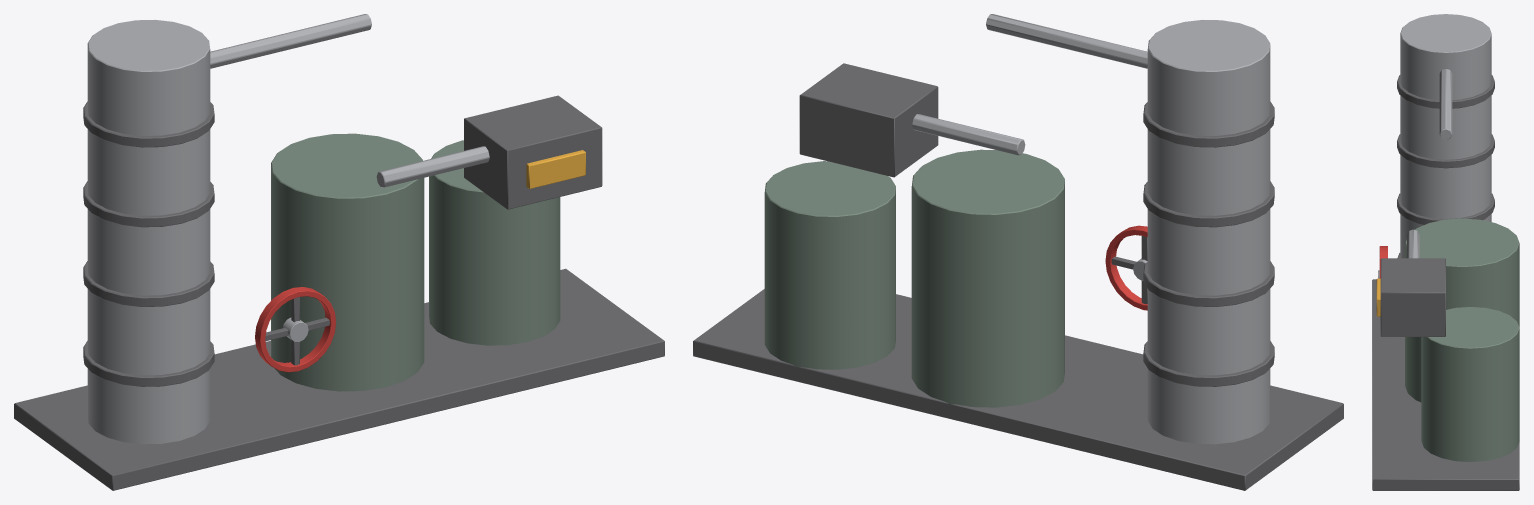
The model's file is feM_Refinery.fbx.
3 renders of one model, left to right at view 1: azimuth 30°, elevation 25°; view 2: azimuth 150°, elevation 25°; view 3: azimuth 270°, elevation 25°, orthographic. The views are drawn at different scales.
Visible parts, largest first — view 1: feM_Refinery_Base, FeSpin_PumpWheel; view 2: feM_Refinery_Base, FeSpin_PumpWheel; view 3: feM_Refinery_Base.
Boxes of the visible parts, x1,y1,x2,y2 form: feM_Refinery_Base: (14,14,664,490); FeSpin_PumpWheel: (255,287,335,372); feM_Refinery_Base: (693,14,1343,490); FeSpin_PumpWheel: (1105,225,1147,310); feM_Refinery_Base: (1372,14,1519,490).
Size of the model in its own units: 2.9 by 1.95 by 0.9.
